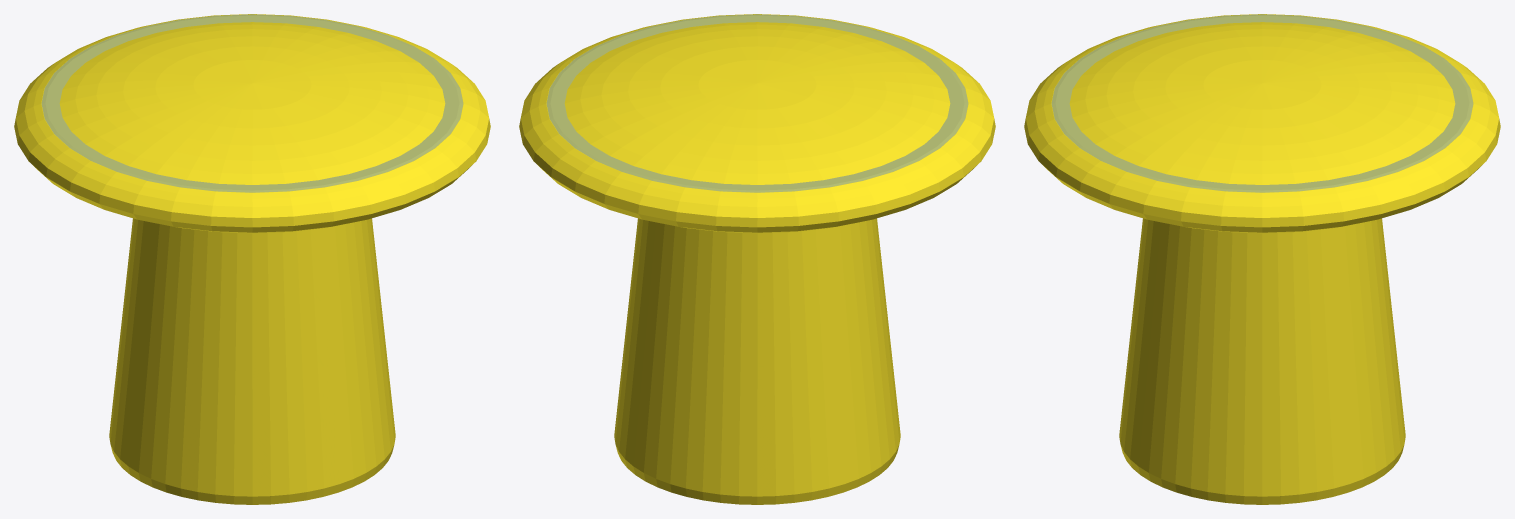
The model's file is openscad_door-knob-and-drawer-pull-maker.glb.
3 views of the same model, side by side, from view 1: azimuth 30°, elevation 25°; view 2: azimuth 150°, elevation 25°; view 3: azimuth 270°, elevation 25° (orthographic).
Visible parts, largest first — view 1: object; view 2: object; view 3: object.
Part boxes in pixels (x1=…): object: x1=14, y1=14, x2=490, y2=504; object: x1=519, y1=14, x2=995, y2=504; object: x1=1024, y1=14, x2=1500, y2=504.
Bounding box in the file's own units: 29.93 × 25.45 × 29.93.
